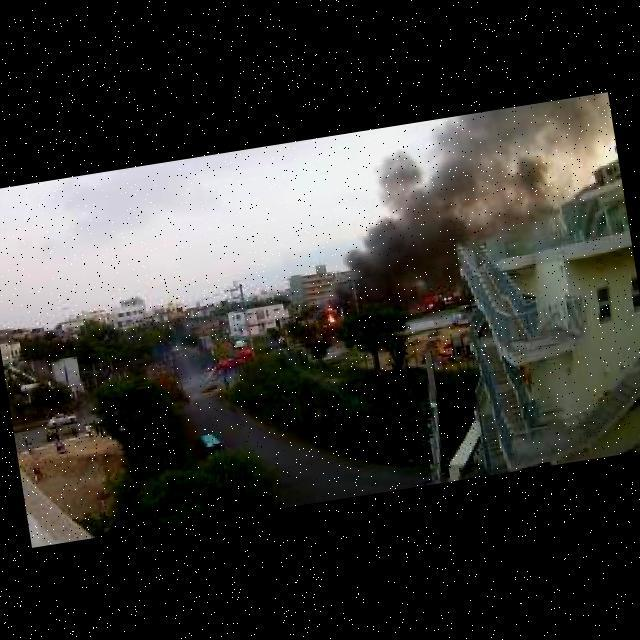Fire: (327, 308, 339, 323)
Smoke: (383, 101, 561, 252), (327, 217, 446, 315)
